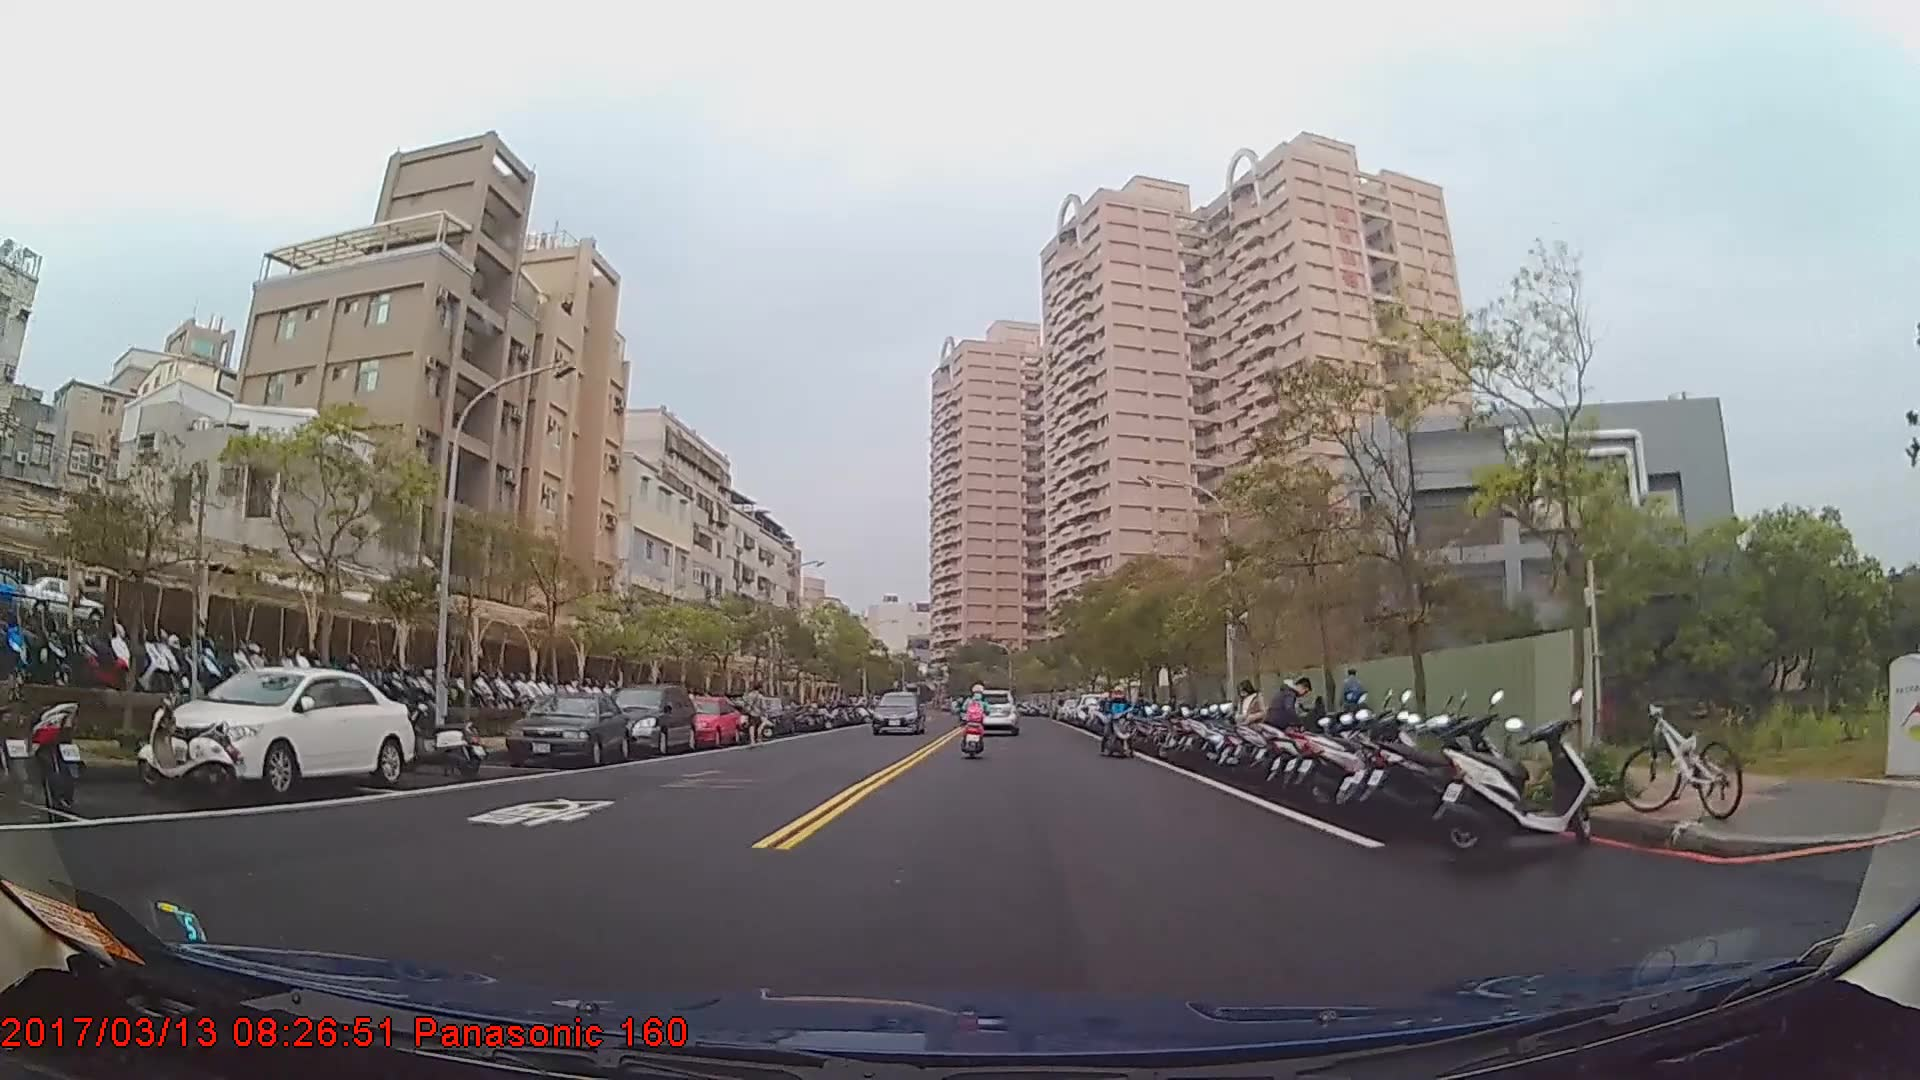pedestrian: (1263, 675, 1315, 785), (1230, 679, 1269, 786), (1338, 669, 1368, 745), (741, 686, 772, 750)
rider: (1100, 686, 1138, 761), (960, 685, 990, 756)
vehicle: (162, 665, 416, 795), (503, 689, 632, 766), (609, 683, 697, 753), (664, 694, 742, 748), (871, 688, 924, 735), (964, 690, 1018, 735)
